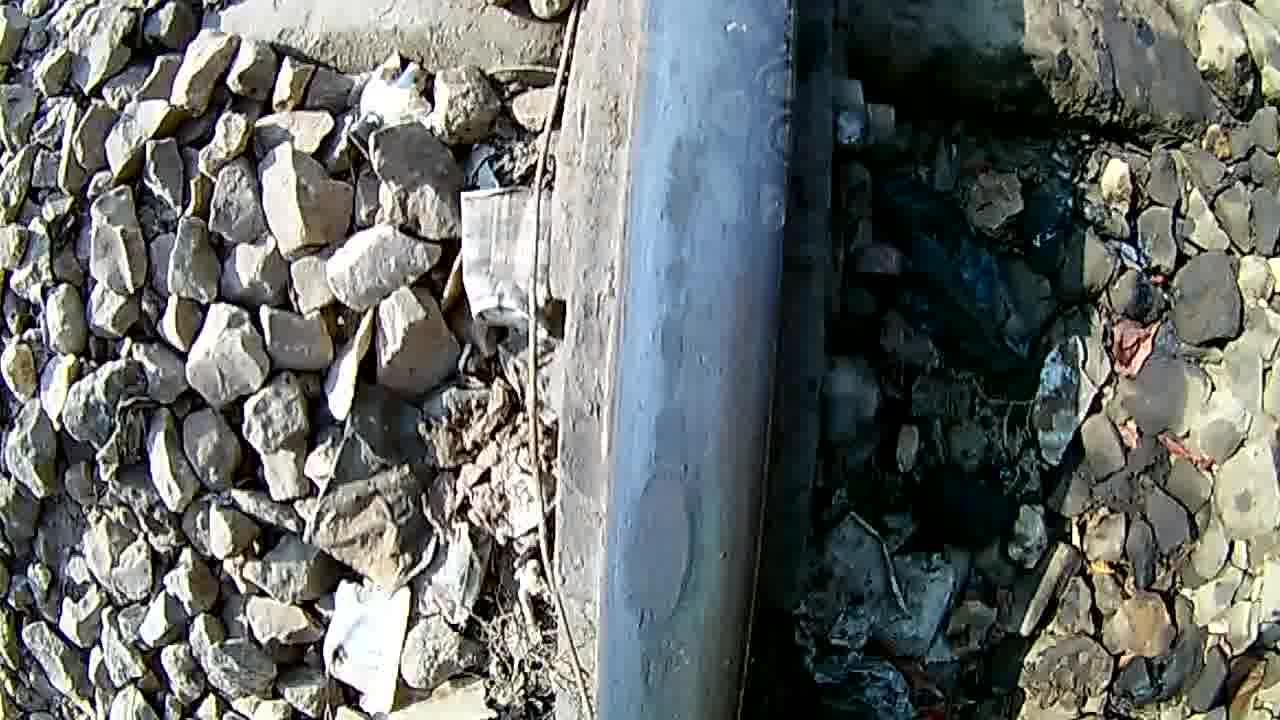bolt_missing: (588, 23, 798, 720)
